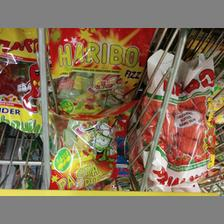Suessigkeit: (48, 26, 154, 122), (143, 49, 215, 187)
